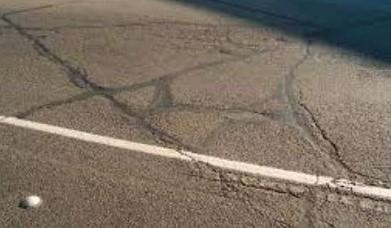alligator-crack: (6, 32, 384, 203)
